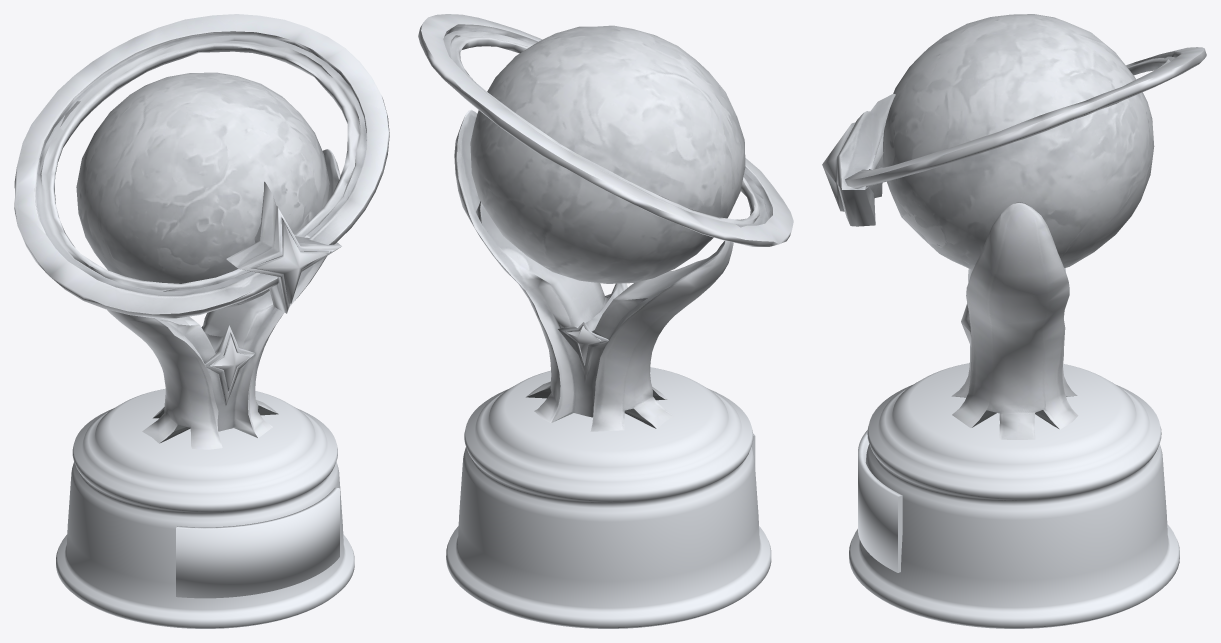
Rendered from silver_honor.glb.
The picture shows the model from 3 angles, left to right: view 1: azimuth 30°, elevation 25°; view 2: azimuth 150°, elevation 25°; view 3: azimuth 270°, elevation 25°; orthographic projection. The views are drawn at different scales.
Visible parts, largest first — view 1: silver_honor_AO_candidate; view 2: silver_honor_AO_candidate; view 3: silver_honor_AO_candidate.
Part boxes in pixels (x1,y1,x2,y2): silver_honor_AO_candidate: (14,14,389,628); silver_honor_AO_candidate: (418,14,793,628); silver_honor_AO_candidate: (822,14,1206,628).
Bounding box in the file's own units: 0.688 × 1 × 0.6485.
2 materials, 1 textured.
